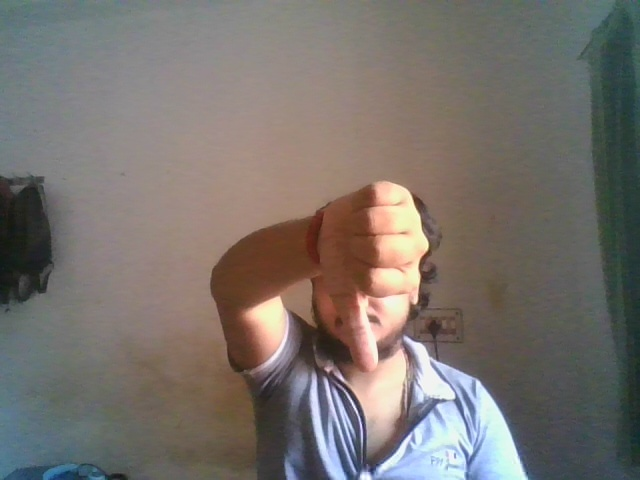ThumbsDown: (316, 180, 429, 375)
